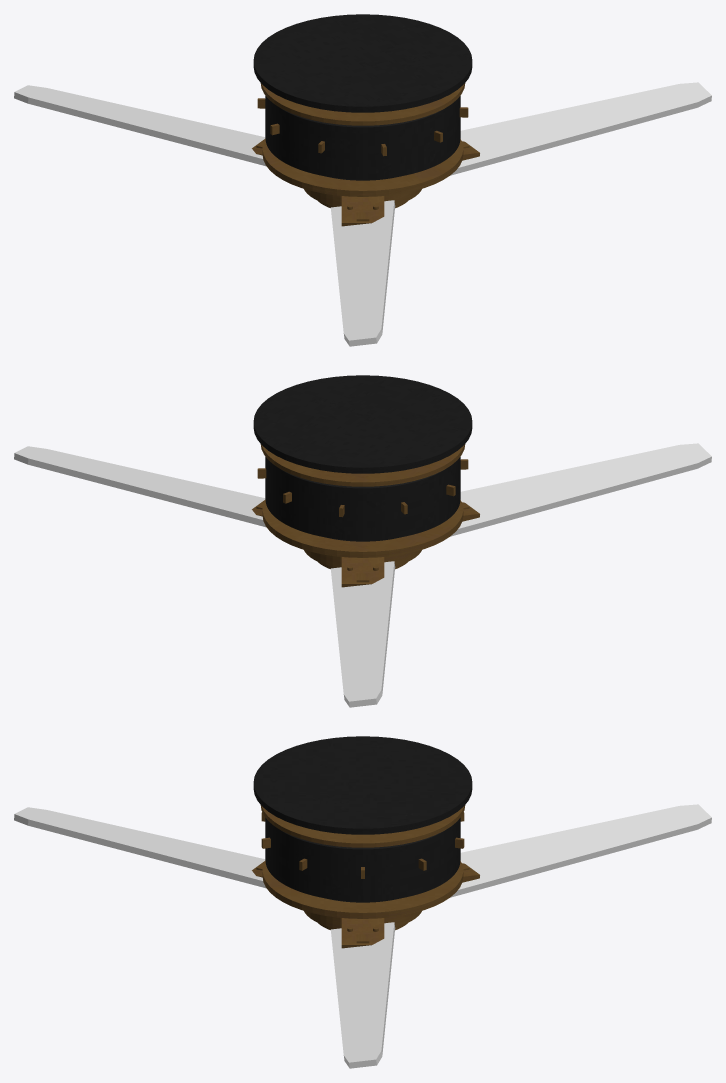
The model's file is ceiling_fan__0005.glb.
The picture shows the model from 3 angles, top to bottom: view 1: azimuth 30°, elevation 25°; view 2: azimuth 150°, elevation 25°; view 3: azimuth 270°, elevation 25°; orthographic projection.
Visible parts, largest first — view 1: ceiling_mount::ceiling_plate, motor_housing::motor_shell, blade_assembly::blade_surface_0, blade_assembly::blade_surface_2, blade_assembly::blade_surface_1, motor_housing::lower_trim_ring, motor_housing::upper_trim_ring, blade_assembly::blade_2_root_clamp, blade_assembly::rotor_hub; view 2: ceiling_mount::ceiling_plate, motor_housing::motor_shell, blade_assembly::blade_surface_2, blade_assembly::blade_surface_1, blade_assembly::blade_surface_0, motor_housing::lower_trim_ring, motor_housing::upper_trim_ring, blade_assembly::blade_1_root_clamp, blade_assembly::rotor_hub; view 3: ceiling_mount::ceiling_plate, motor_housing::motor_shell, blade_assembly::blade_surface_1, blade_assembly::blade_surface_0, blade_assembly::blade_surface_2, motor_housing::lower_trim_ring, motor_housing::upper_trim_ring, blade_assembly::blade_0_root_clamp, blade_assembly::rotor_hub.
Boxes of the visible parts, box(x1,y1,x2,y2) form: ceiling_mount::ceiling_plate: box(253, 14, 472, 112); motor_housing::motor_shell: box(265, 95, 460, 180); blade_assembly::blade_surface_0: box(450, 82, 711, 175); blade_assembly::blade_surface_2: box(330, 200, 395, 346); blade_assembly::blade_surface_1: box(14, 85, 265, 166); motor_housing::lower_trim_ring: box(262, 139, 463, 196); motor_housing::upper_trim_ring: box(260, 83, 465, 125); blade_assembly::blade_2_root_clamp: box(341, 196, 384, 226); blade_assembly::rotor_hub: box(304, 189, 421, 206); ceiling_mount::ceiling_plate: box(253, 375, 472, 473); motor_housing::motor_shell: box(265, 456, 460, 541); blade_assembly::blade_surface_2: box(450, 443, 711, 536); blade_assembly::blade_surface_1: box(330, 561, 395, 707); blade_assembly::blade_surface_0: box(14, 446, 265, 527); motor_housing::lower_trim_ring: box(262, 500, 463, 557); motor_housing::upper_trim_ring: box(260, 444, 465, 486); blade_assembly::blade_1_root_clamp: box(341, 557, 384, 587); blade_assembly::rotor_hub: box(304, 550, 421, 567); ceiling_mount::ceiling_plate: box(253, 736, 472, 834); motor_housing::motor_shell: box(265, 817, 460, 902); blade_assembly::blade_surface_1: box(450, 804, 711, 897); blade_assembly::blade_surface_0: box(330, 922, 395, 1068); blade_assembly::blade_surface_2: box(14, 807, 265, 888); motor_housing::lower_trim_ring: box(262, 861, 463, 918); motor_housing::upper_trim_ring: box(260, 805, 465, 847); blade_assembly::blade_0_root_clamp: box(341, 918, 384, 948); blade_assembly::rotor_hub: box(304, 911, 421, 928).
Bounding box in the file's own units: 1.27 × 0.35 × 1.47.
5 materials, 4 textured.
